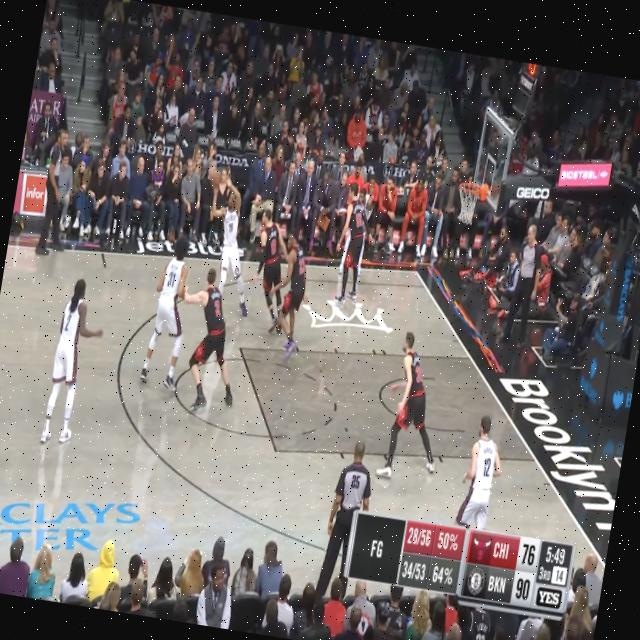no foul: (108, 225, 258, 470), (196, 184, 297, 346), (240, 192, 330, 360)
